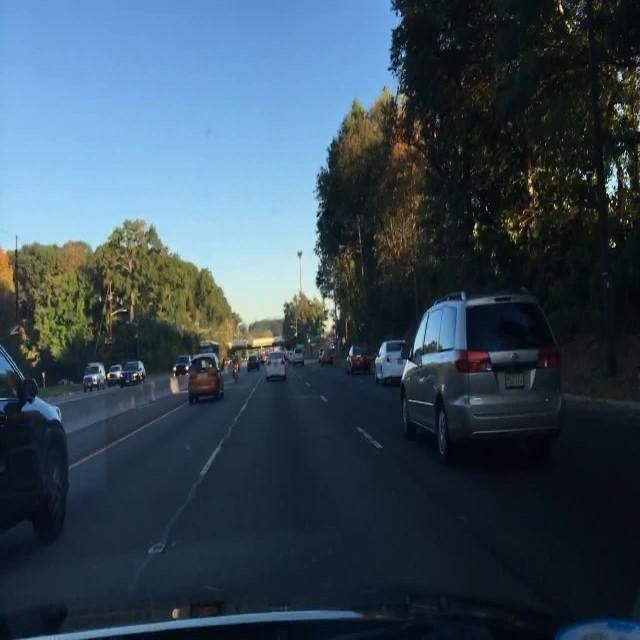normal: (397, 294, 563, 469), (0, 342, 70, 541), (187, 350, 225, 399), (370, 340, 404, 385), (348, 346, 373, 374), (82, 361, 107, 389), (265, 351, 287, 380), (123, 359, 147, 382), (108, 363, 127, 384), (173, 354, 191, 374)
